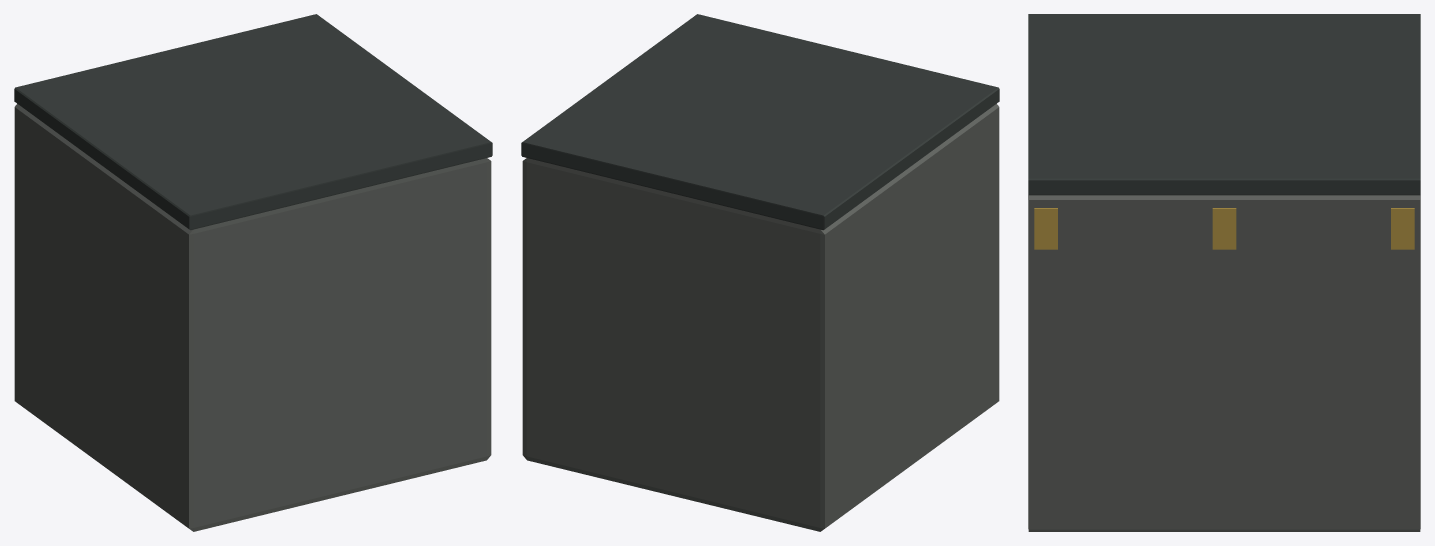
File: SM_Henhouse_Tread_Stretch100_XRun_A.fbx
The picture shows the model from 3 angles, left to right: view 1: azimuth 30°, elevation 25°; view 2: azimuth 150°, elevation 25°; view 3: azimuth 270°, elevation 25°; orthographic projection. The views are drawn at different scales.
Parts seen in each view (by area): view 1: SM_Henhouse_Tread_Stretch100_XRun_A; view 2: SM_Henhouse_Tread_Stretch100_XRun_A; view 3: SM_Henhouse_Tread_Stretch100_XRun_A.
Boxes of the visible parts, x1,y1,x2,y2 form: SM_Henhouse_Tread_Stretch100_XRun_A: (14,14,492,531); SM_Henhouse_Tread_Stretch100_XRun_A: (521,14,999,531); SM_Henhouse_Tread_Stretch100_XRun_A: (1028,14,1420,531).
Size of what is drawn, in the model's own units: 100 by 100 by 100.
